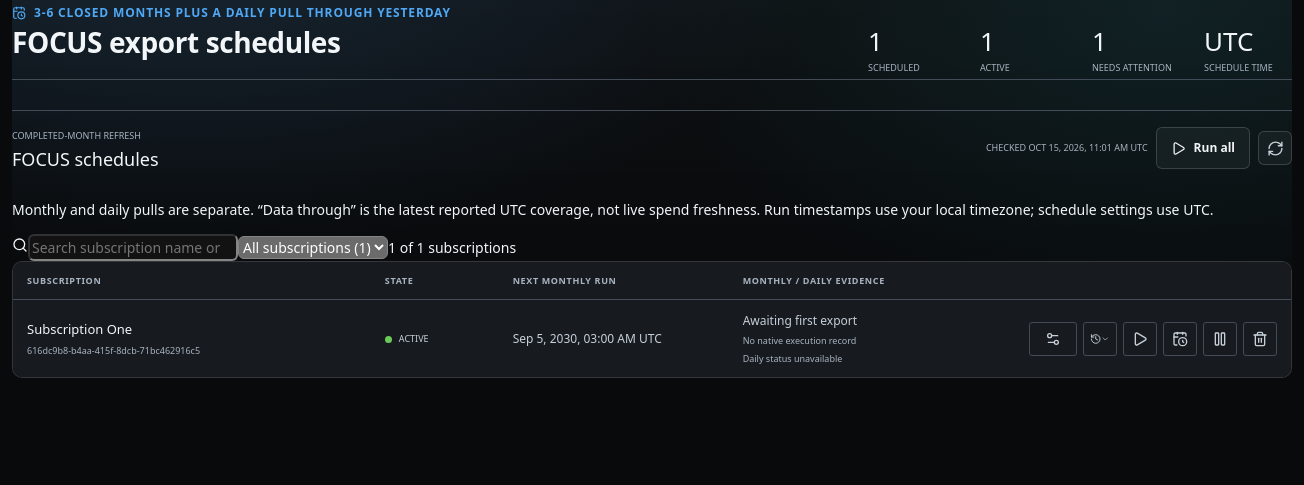
it: Open Schedules › removes stale subscriptions after refresh fails with HTTP 401
Step 1. Click the button named "Refresh schedules" → click(1275, 148), box x1=1258 y1=131 x2=1292 y2=165
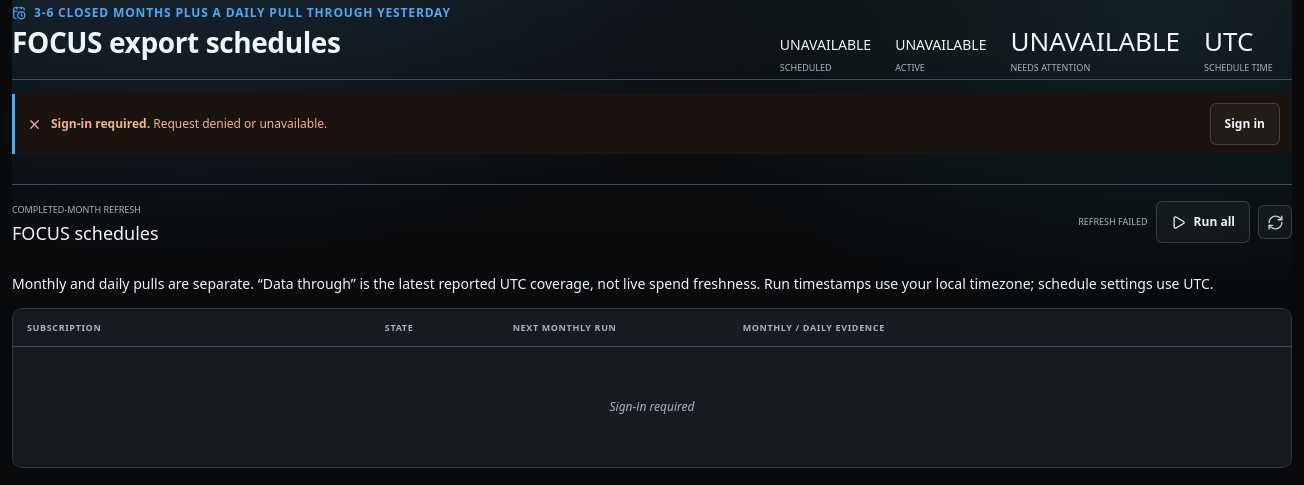
Check: the text "Subscription One" is gone
Check: the text "Sign-in required" is shown, box x1=51 y1=115 x2=147 y2=132
Check: the button "Run all" is disabled, box x1=1156 y1=201 x2=1250 y2=243
